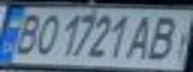1: (106, 11, 136, 60), (54, 10, 81, 57)
2: (90, 10, 115, 58)
7: (75, 10, 96, 58)
A: (124, 11, 163, 61)
B: (139, 12, 193, 61), (6, 10, 48, 56)
O: (27, 11, 63, 56)
